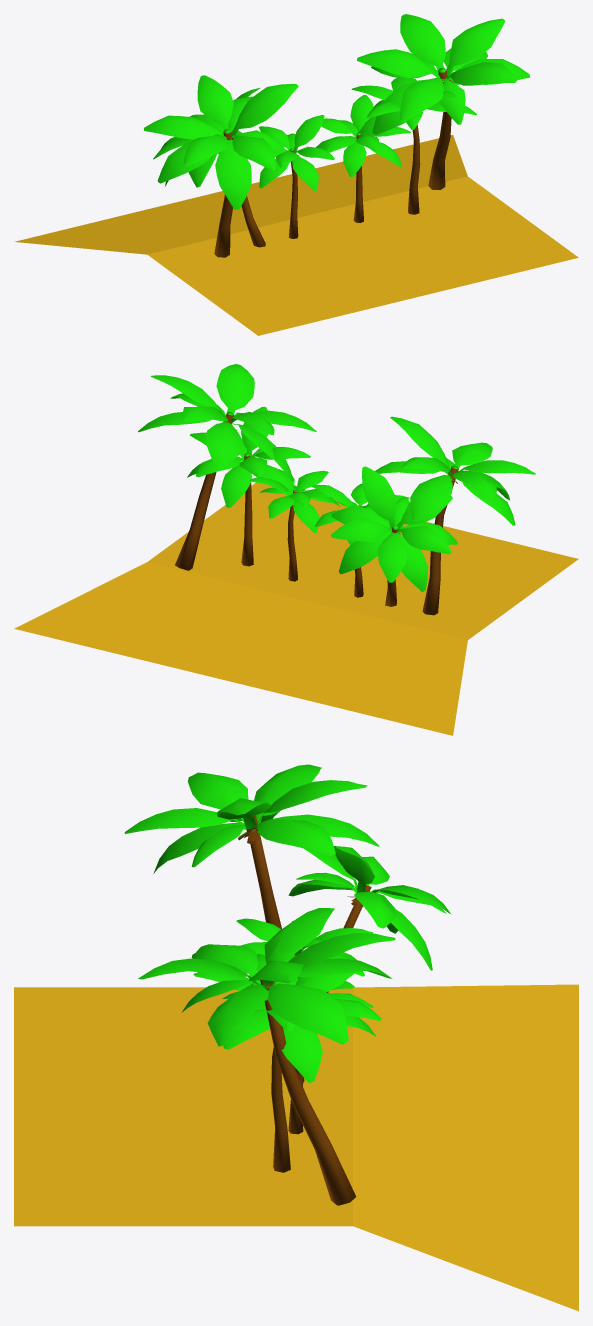
File: palmtree02.glb
The picture shows the model from 3 angles, top to bottom: view 1: azimuth 30°, elevation 25°; view 2: azimuth 150°, elevation 25°; view 3: azimuth 270°, elevation 25°; orthographic projection. The views are drawn at different scales.
Visible parts, largest first — view 1: Plane, Palm Tree 1.005, Palm Tree 1.003, Palm Tree 1.001, Palm Tree 1, Palm Tree 1.004, Palm Tree 1.002; view 2: Plane, Palm Tree 1.002, Palm Tree 1.005, Palm Tree 1.003, Palm Tree 1.004, Palm Tree 1.001, Palm Tree 1; view 3: Plane, Palm Tree 1.005, Palm Tree 1.003, Palm Tree 1.004, Palm Tree 1.002, Palm Tree 1, Palm Tree 1.001.
Part boxes in pixels (box(x1,y1,x2,y2)): Plane: box(14, 135, 578, 335); Palm Tree 1.005: box(357, 14, 530, 189); Palm Tree 1.003: box(143, 75, 298, 257); Palm Tree 1.001: box(316, 95, 410, 222); Palm Tree 1: box(247, 115, 334, 238); Palm Tree 1.004: box(351, 78, 476, 214); Palm Tree 1.002: box(153, 88, 265, 247); Plane: box(14, 482, 578, 735); Palm Tree 1.002: box(331, 466, 457, 606); Palm Tree 1.005: box(138, 364, 316, 570); Palm Tree 1.003: box(375, 416, 535, 615); Palm Tree 1.004: box(187, 406, 310, 566); Palm Tree 1.001: box(249, 469, 340, 581); Palm Tree 1: box(312, 483, 409, 597); Plane: box(14, 984, 578, 1311); Palm Tree 1.005: box(138, 908, 395, 1205); Palm Tree 1.003: box(124, 764, 378, 929); Palm Tree 1.004: box(193, 954, 381, 1172); Palm Tree 1.002: box(288, 846, 451, 992); Palm Tree 1: box(236, 918, 373, 1081); Palm Tree 1.001: box(234, 978, 373, 1134).
Size of the model in its own units: 30.53 by 13.07 by 22.29.
